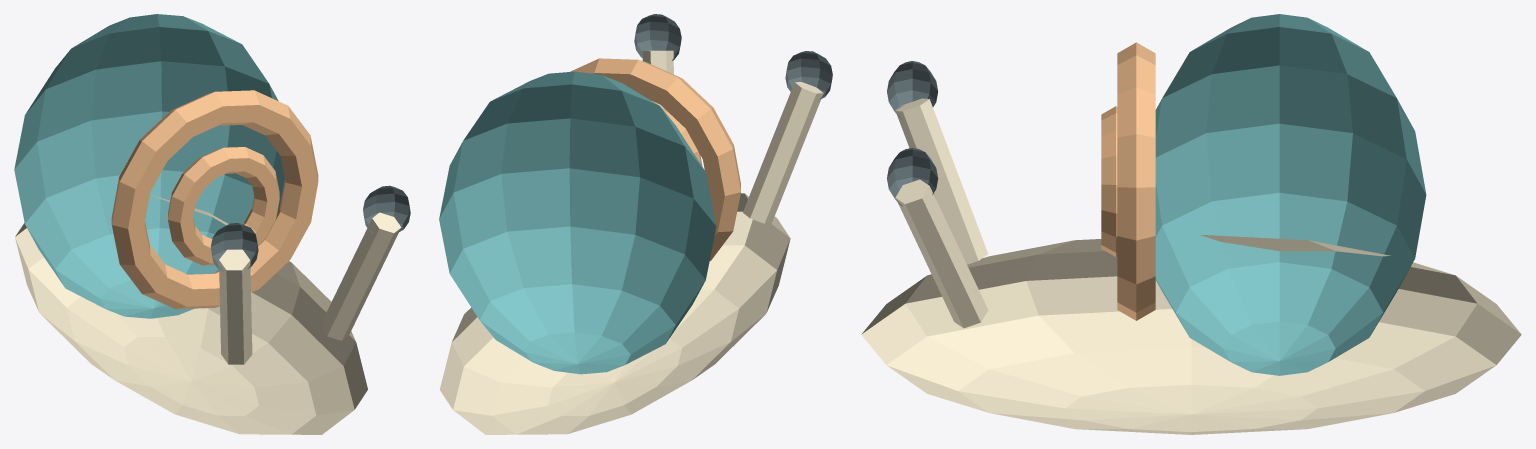
The model's file is meadow-courier-trail-snail__34.glb.
3 views of the same model, side by side, from view 1: azimuth 30°, elevation 25°; view 2: azimuth 150°, elevation 25°; view 3: azimuth 270°, elevation 25° (orthographic). The views are drawn at different scales.
Visible parts, largest first — view 1: meadow-courier-snail; view 2: meadow-courier-snail; view 3: meadow-courier-snail.
Part boxes in pixels (x1,y1,x2,y2): meadow-courier-snail: (14, 14, 410, 434); meadow-courier-snail: (439, 14, 832, 434); meadow-courier-snail: (861, 14, 1521, 434).
Bounding box in the file's own units: 0.46 × 0.58 × 0.9.
